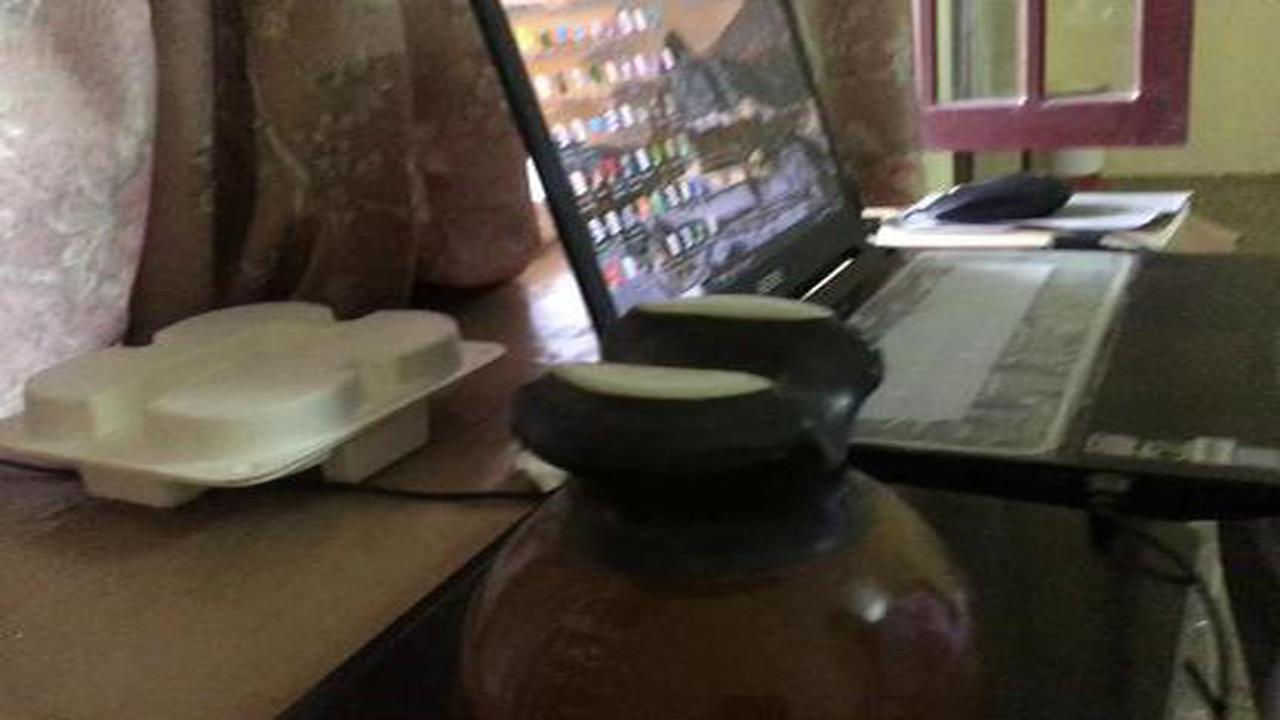insulator_pin: (444, 281, 1025, 715)
